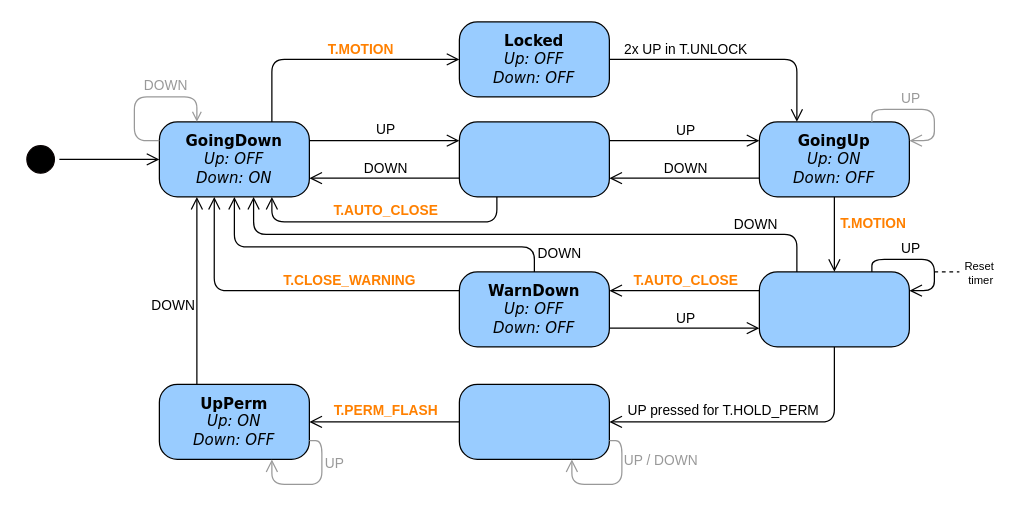
Image size: 1018x519. Some labels were removed from this diagram. The centre of each missing label's shape, as x and y in pixels:
Stopped Up: OFF Down: OFF: (533,159)
Up Up: ON Down: OFF: (833,309)
UpPermInit Up: OFF Down: OFF: (533,421)
